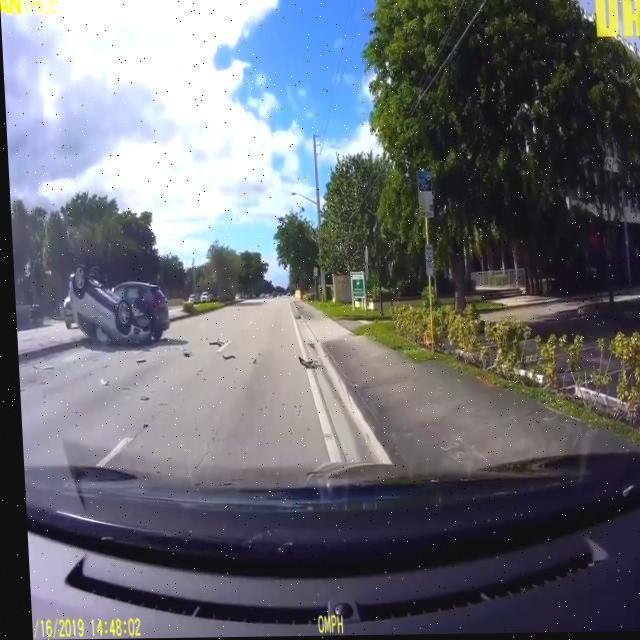multiple_accident: (47, 260, 181, 350)
